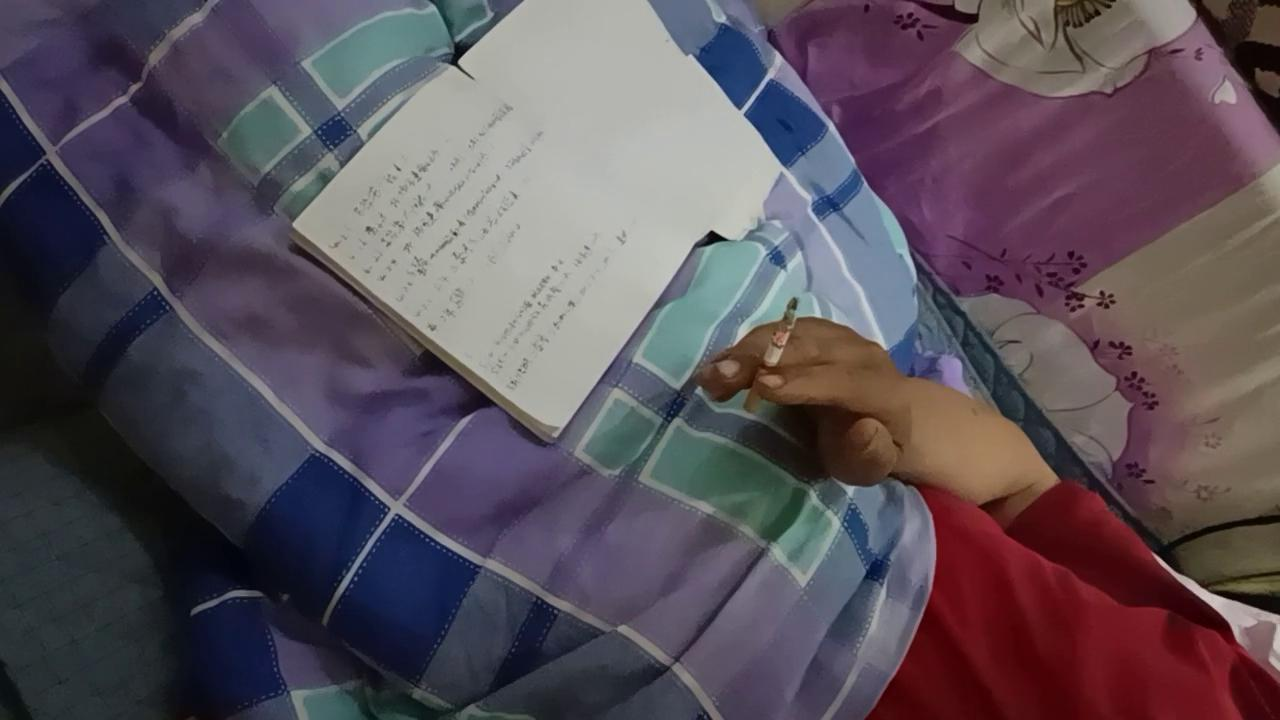smoke: (744, 297, 800, 414)
